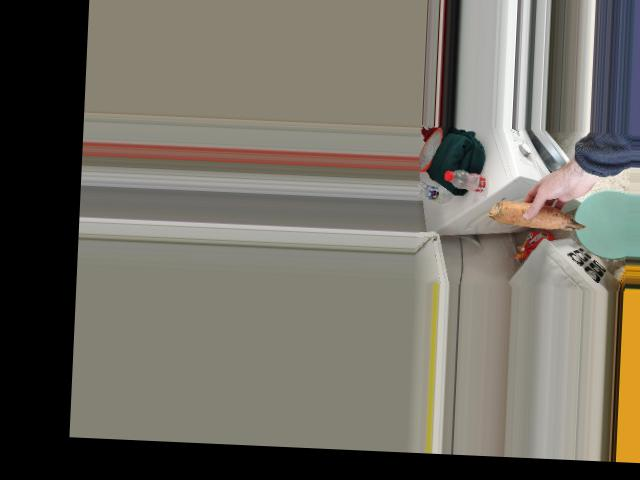sweet_potato: (486, 196, 584, 231)
